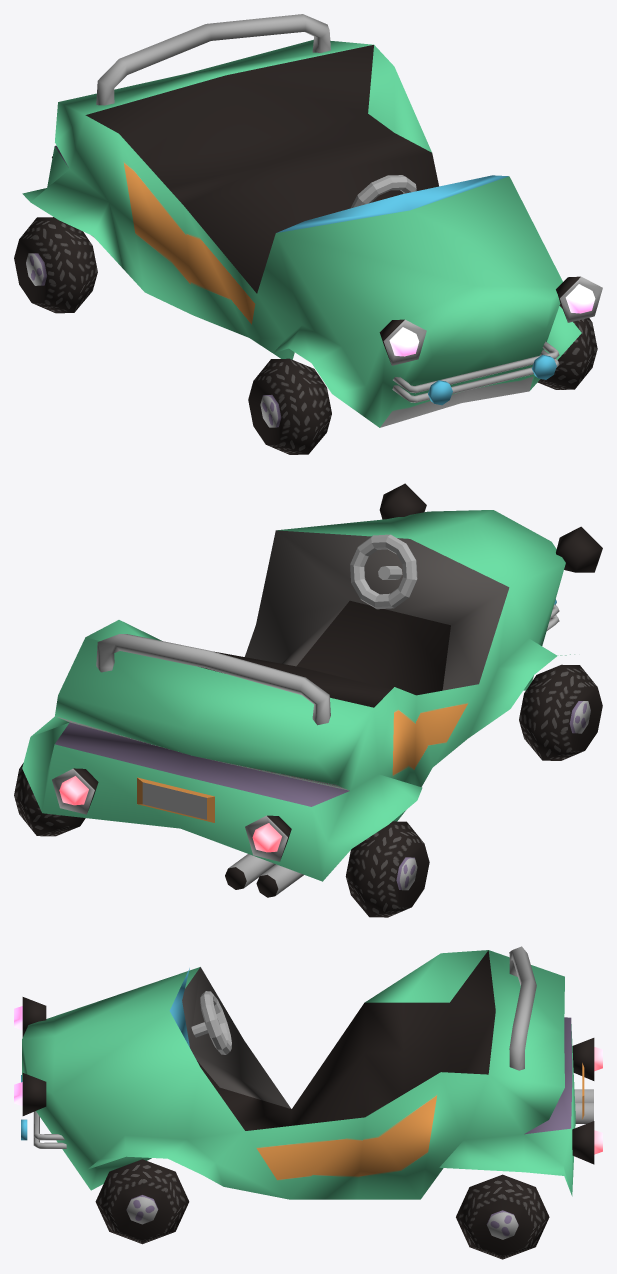
The model's file is car.glb.
3 renders of one model, top to bottom at view 1: azimuth 30°, elevation 25°; view 2: azimuth 150°, elevation 25°; view 3: azimuth 270°, elevation 25°, orthographic. The views are drawn at different scales.
Parts seen in each view (by area): view 1: body; view 2: body; view 3: body.
Part boxes in pixels (box(x1,y1,x2,y2)): body: box(14, 14, 602, 454); body: box(14, 483, 602, 917); body: box(14, 946, 602, 1259).
Size of the model in its own units: 5.13 by 3.06 by 7.79.
Materials: 4 (2 with a texture image).
